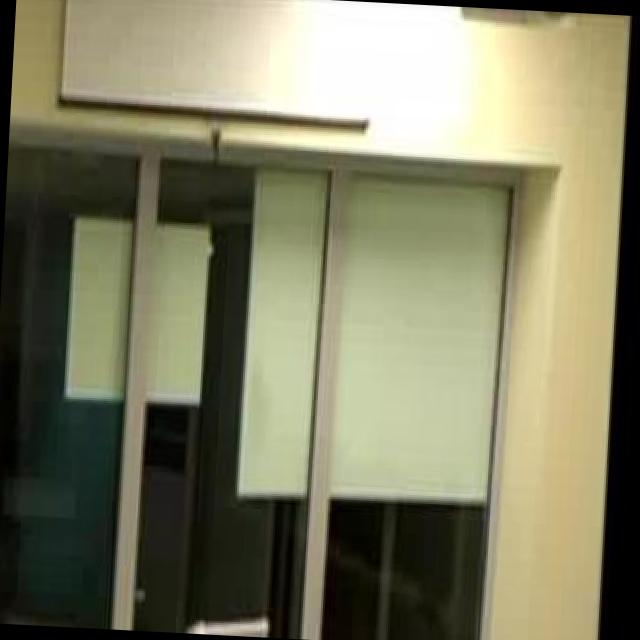Guns: (176, 597, 282, 638)
